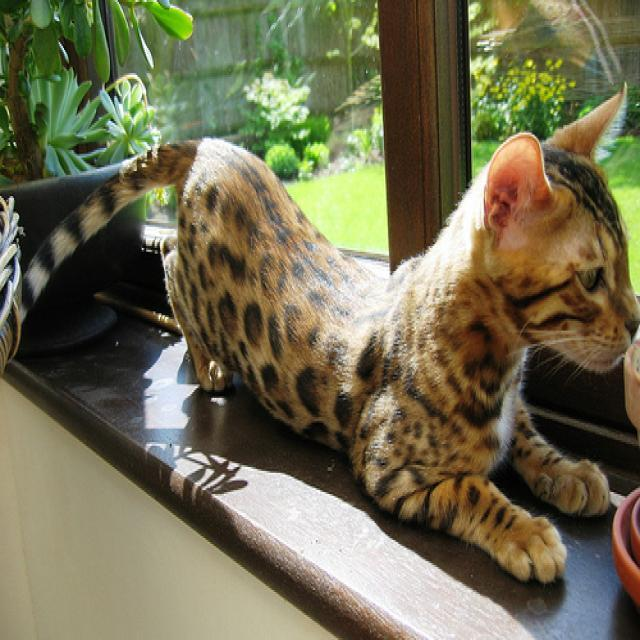Bengal: (474, 79, 640, 387)
